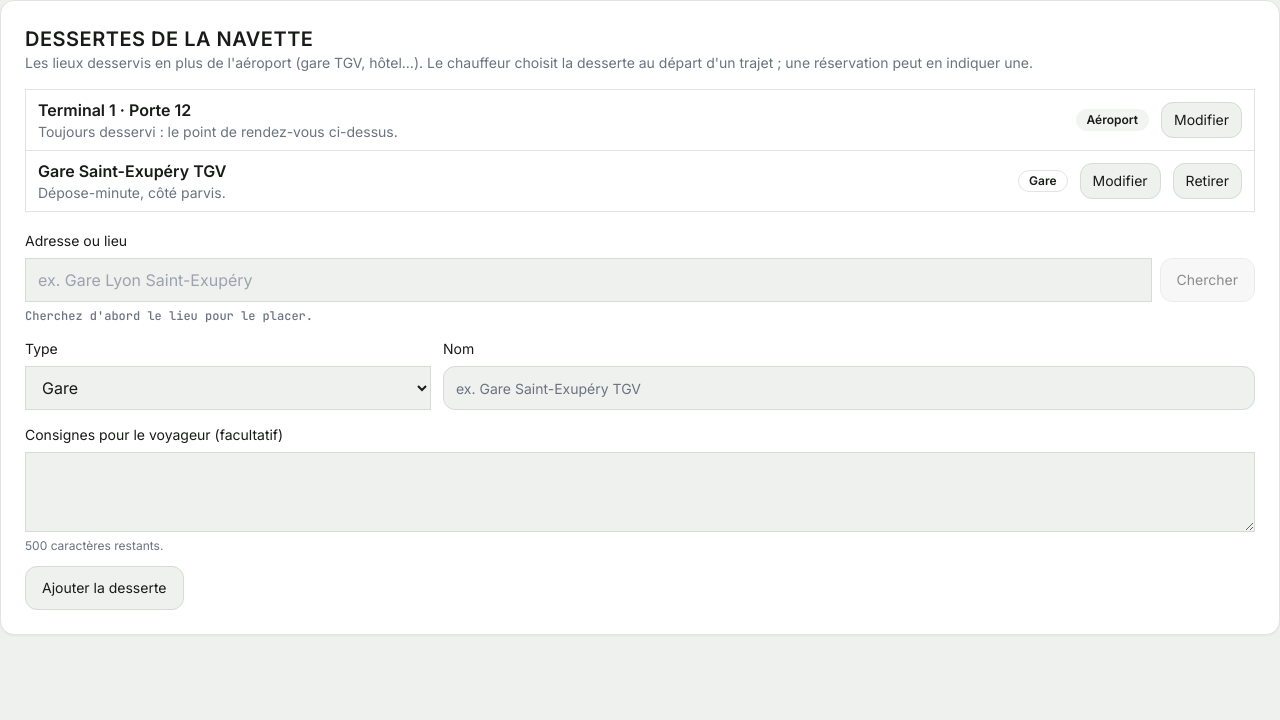
Test case: Dessertes de la navette (D-A) › modifie une desserte (nom et consignes), sans refaire la recherche
This screenshot has width=1280, height=720.
Click the button with aria-label "Modifier la desserte Gare Saint-Exupéry TGV": x=1120, y=181 [1080,163,1161,199]
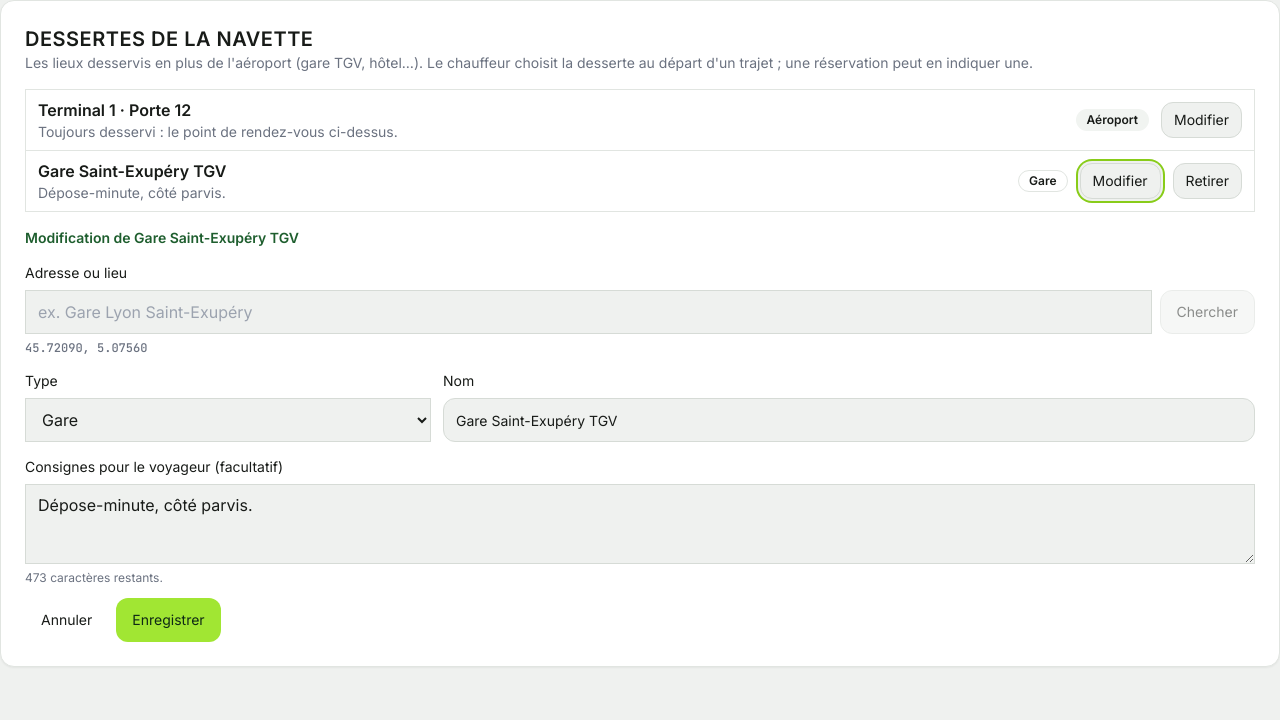
Expected: the text "Modification de Gare Saint-Exupéry TGV" is shown, [25,229,299,246]
Expected: the field labelled "Nom" holds "Gare Saint-Exupéry TGV", [443,398,1255,442]
Replace the text in the text box labelled "Consignes pour le voyageur (facultatif)" with "Parvis, arrêt navettes.": x=640, y=524 [25,484,1255,564]
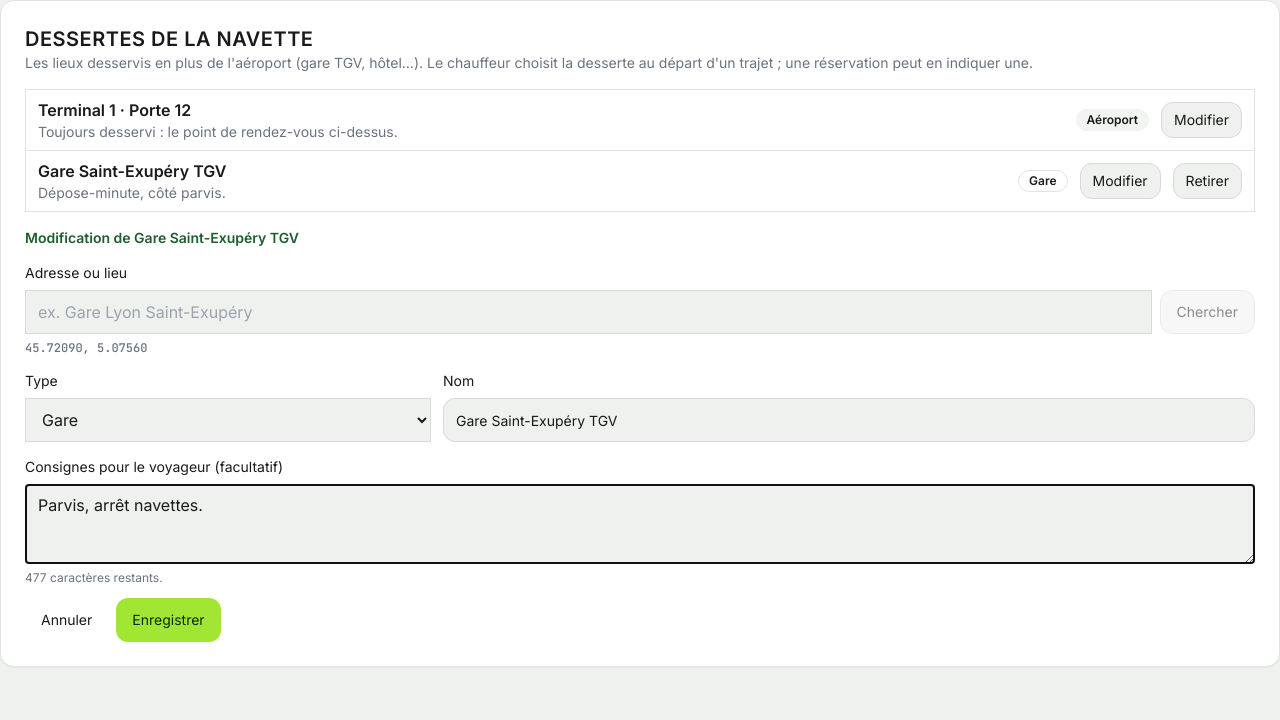
Click the button "Enregistrer": x=168, y=620 [116,598,221,642]
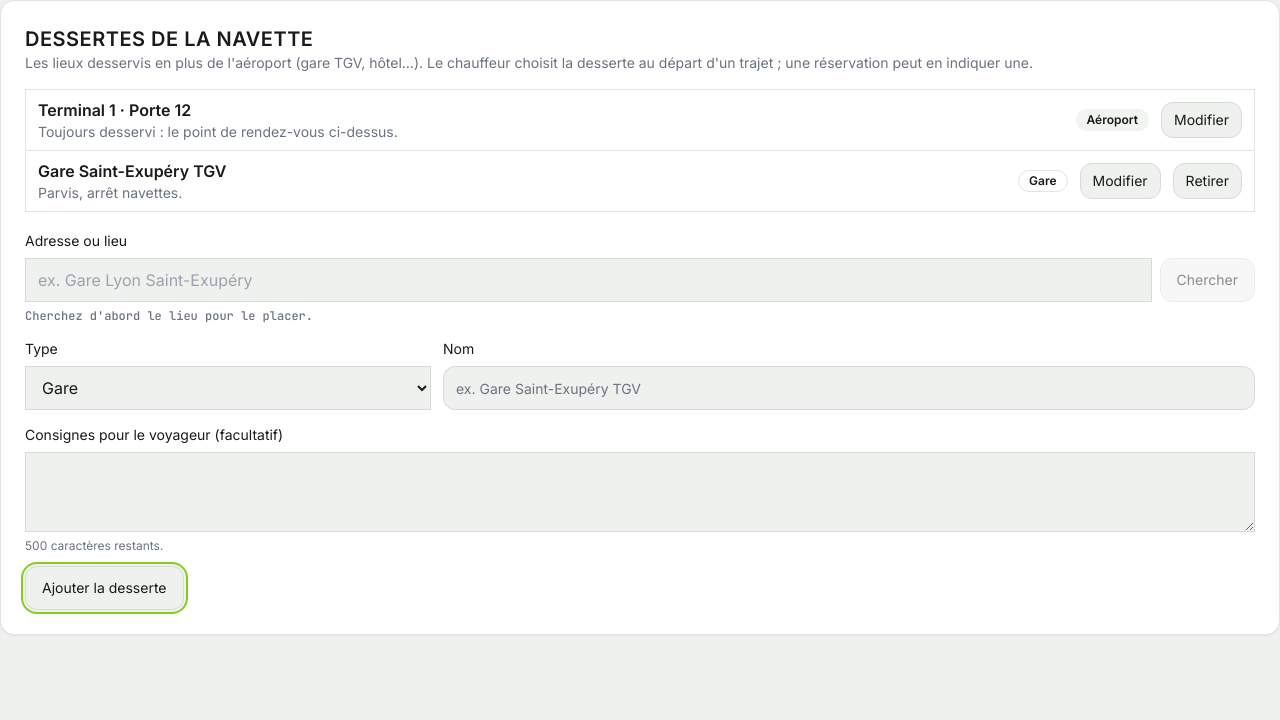
Expected: the text "Parvis, arrêt navettes." is shown, [38,184,182,201]
